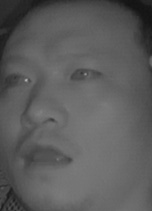eye: (69, 63, 105, 84), (5, 70, 32, 90)
mouth: (17, 136, 75, 175)
